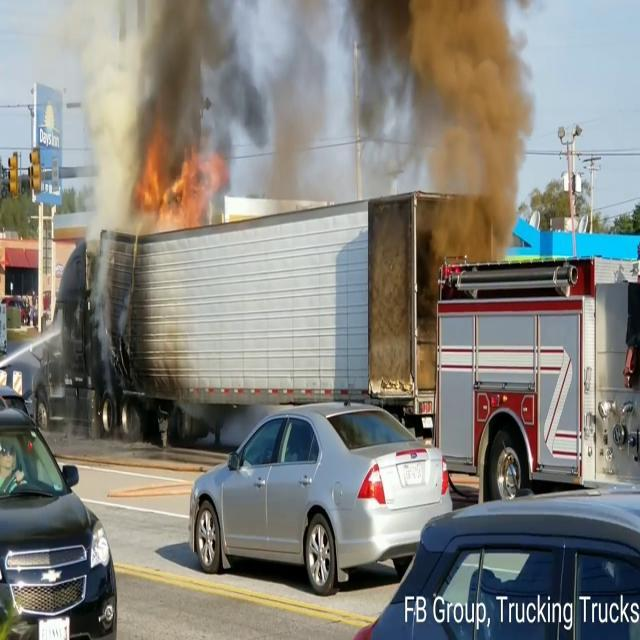Fire: (136, 142, 222, 233)
Smoke: (346, 1, 541, 259), (104, 0, 329, 189), (71, 2, 145, 346)
